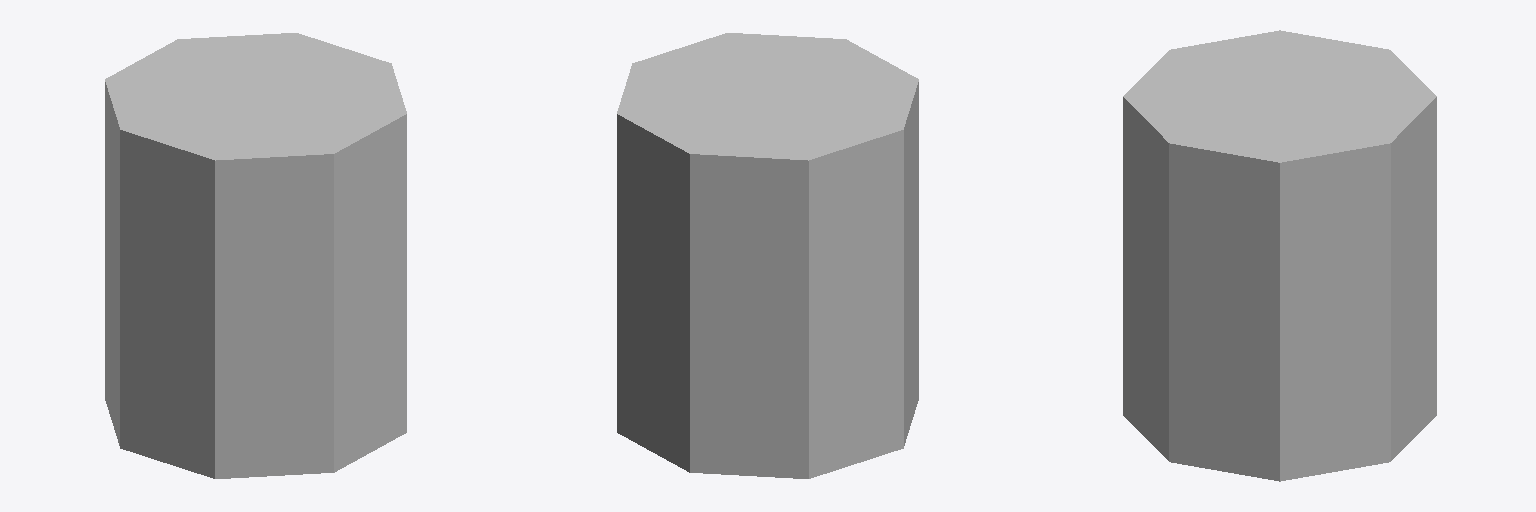
Rendered from Button.obj.
The picture shows the model from 3 angles: view 1: azimuth 30°, elevation 25°; view 2: azimuth 150°, elevation 25°; view 3: azimuth 270°, elevation 25°; orthographic projection.
Visible parts, largest first — view 1: Button; view 2: Button; view 3: Button.
Part boxes in pixels (bbox=[...]): Button: bbox=[105, 33, 406, 478]; Button: bbox=[617, 33, 918, 478]; Button: bbox=[1123, 30, 1436, 481].
Bounding box in the file's own units: 0.1176 × 0.132 × 0.1176.